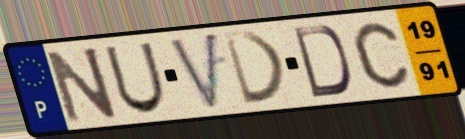C: (351, 20, 413, 91)
D: (220, 29, 290, 108), (290, 23, 353, 100)
N: (43, 44, 121, 125)
U: (101, 40, 169, 117)
V: (165, 29, 220, 113)
